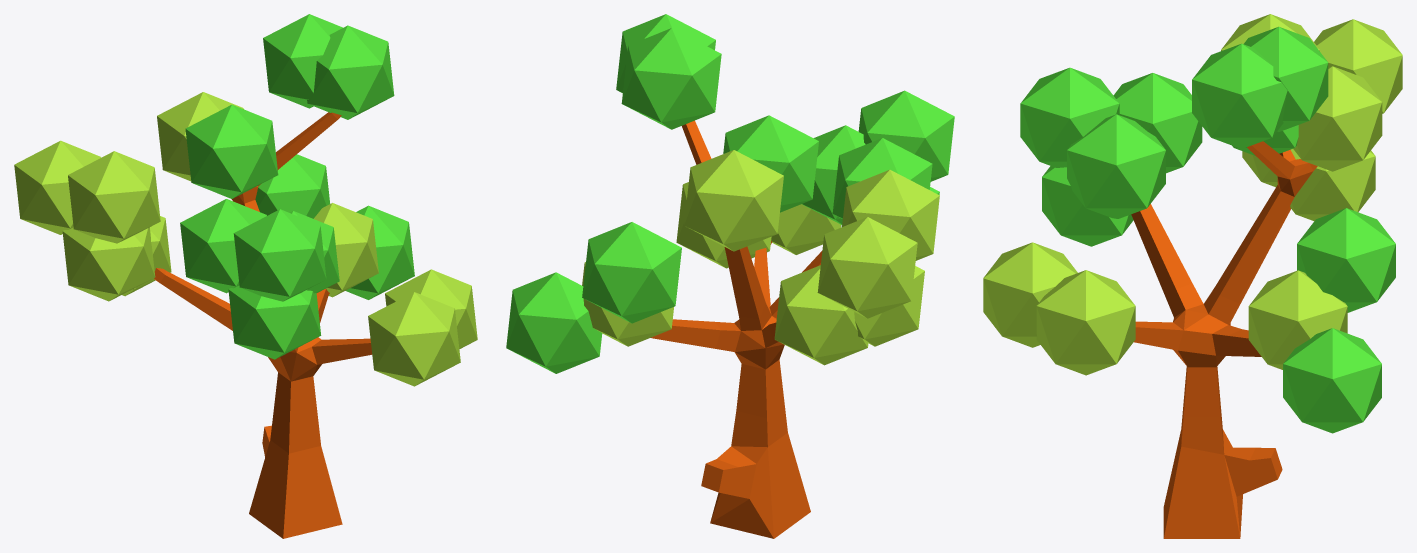
File: TreeModel.fbx
The picture shows the model from 3 angles, left to right: view 1: azimuth 30°, elevation 25°; view 2: azimuth 150°, elevation 25°; view 3: azimuth 270°, elevation 25°; orthographic projection. The views are drawn at different scales.
Visible parts, largest first — view 1: Cube, Icosphere.001, Icosphere.023, Icosphere.006, Icosphere.011, Icosphere.002, Icosphere.009, Icosphere.014, Icosphere.012, Icosphere.007, Icosphere.005, Icosphere.017 (+6 smaller); view 2: Cube, Icosphere.024, Icosphere.005, Icosphere.007, Icosphere.016, Icosphere.019, Icosphere.010, Icosphere.006, Icosphere.011, Icosphere.023, Icosphere.012, Icosphere.013 (+5 smaller); view 3: Cube, Icosphere, Icosphere.019, Icosphere.013, Icosphere.002, Icosphere.016, Icosphere.011, Icosphere.017, Icosphere.024, Icosphere.001, Icosphere.012, Icosphere.005 (+6 smaller).
Boxes of the visible parts, x1,y1,x2,y2 form: Cube: [154, 112, 372, 538]; Icosphere.001: [368, 292, 460, 386]; Icosphere.023: [185, 104, 278, 198]; Icosphere.006: [68, 151, 160, 243]; Icosphere.011: [233, 209, 326, 301]; Icosphere.002: [307, 25, 394, 119]; Icosphere.009: [62, 227, 155, 301]; Icosphere.014: [228, 285, 321, 359]; Icosphere.012: [180, 199, 266, 293]; Icosphere.007: [14, 140, 100, 234]; Icosphere.005: [263, 14, 342, 108]; Icosphere.017: [314, 203, 378, 297]; Cube: [650, 120, 822, 538]; Icosphere.024: [684, 150, 783, 251]; Icosphere.005: [621, 28, 721, 129]; Icosphere.007: [817, 217, 917, 318]; Icosphere.016: [582, 222, 681, 323]; Icosphere.019: [506, 272, 602, 373]; Icosphere.010: [774, 265, 868, 365]; Icosphere.006: [842, 169, 939, 260]; Icosphere.011: [858, 90, 954, 181]; Icosphere.023: [723, 115, 818, 212]; Icosphere.012: [832, 138, 932, 218]; Icosphere.013: [802, 125, 865, 224]; Cube: [1131, 141, 1317, 538]; Icosphere: [1036, 270, 1135, 375]; Icosphere.019: [1283, 328, 1381, 433]; Icosphere.013: [1067, 114, 1165, 218]; Icosphere.002: [1192, 43, 1287, 148]; Icosphere.016: [1297, 208, 1395, 312]; Icosphere.011: [1020, 67, 1119, 167]; Icosphere.017: [1248, 270, 1347, 369]; Icosphere.024: [1293, 66, 1382, 171]; Icosphere.001: [983, 242, 1077, 347]; Icosphere.012: [1113, 73, 1202, 173]; Icosphere.005: [1244, 26, 1328, 131].
Bounding box in the file's own units: 669 × 789 × 575.
